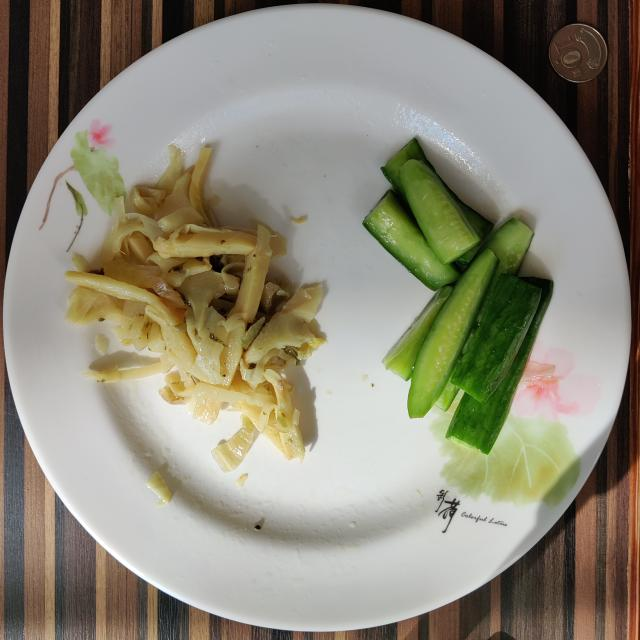coin: (549, 24, 608, 82)
cucumber: (364, 139, 552, 454)
